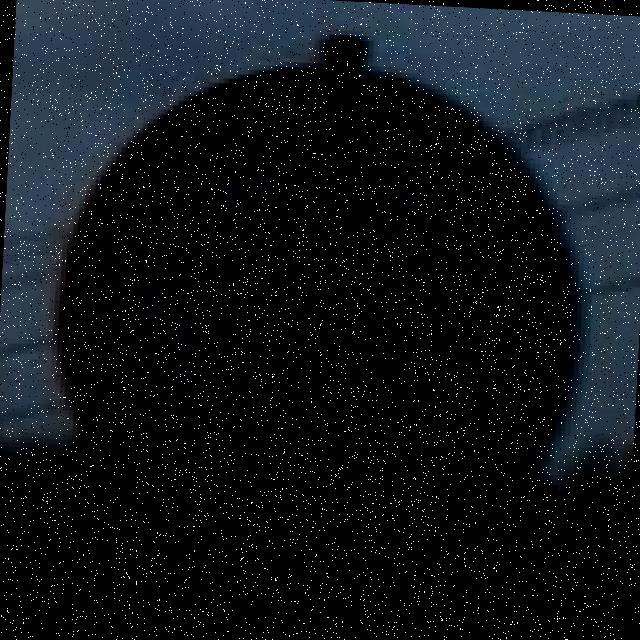Ograniczenie predkosci do 100: (41, 46, 600, 600)
